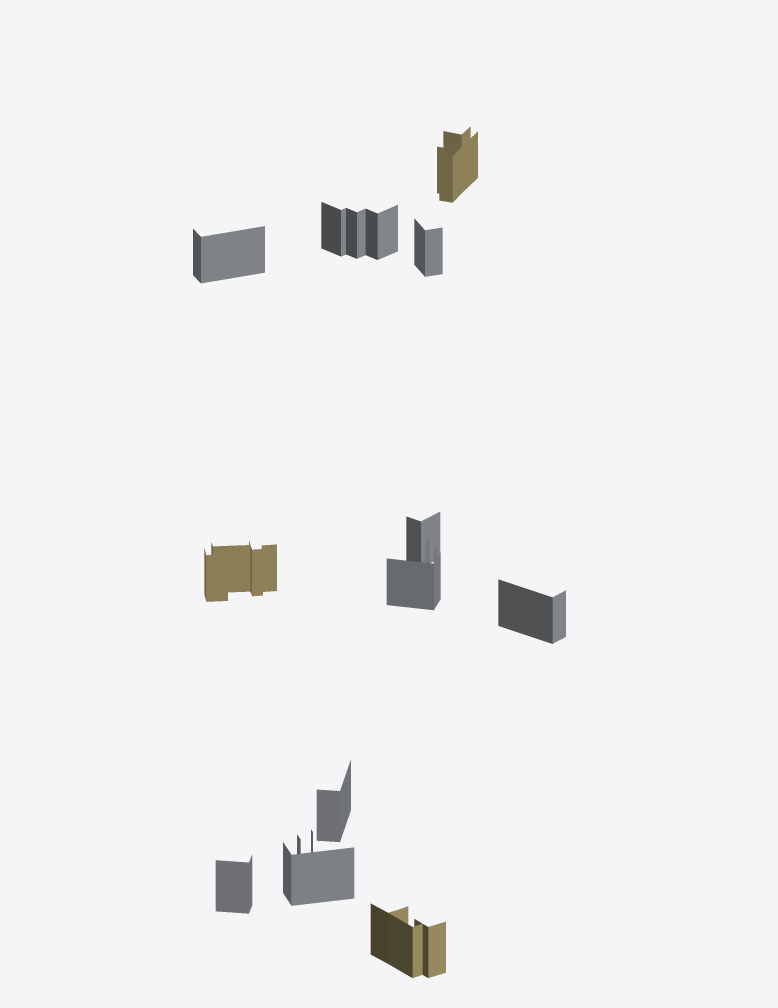
3 renders of one model, top to bottom at view 1: azimuth 30°, elevation 25°; view 2: azimuth 150°, elevation 25°; view 3: azimuth 270°, elevation 25°, orthographic. The views are drawn at different scales.
Bounding box in the file's own units: 133 × 12.02 × 159.
